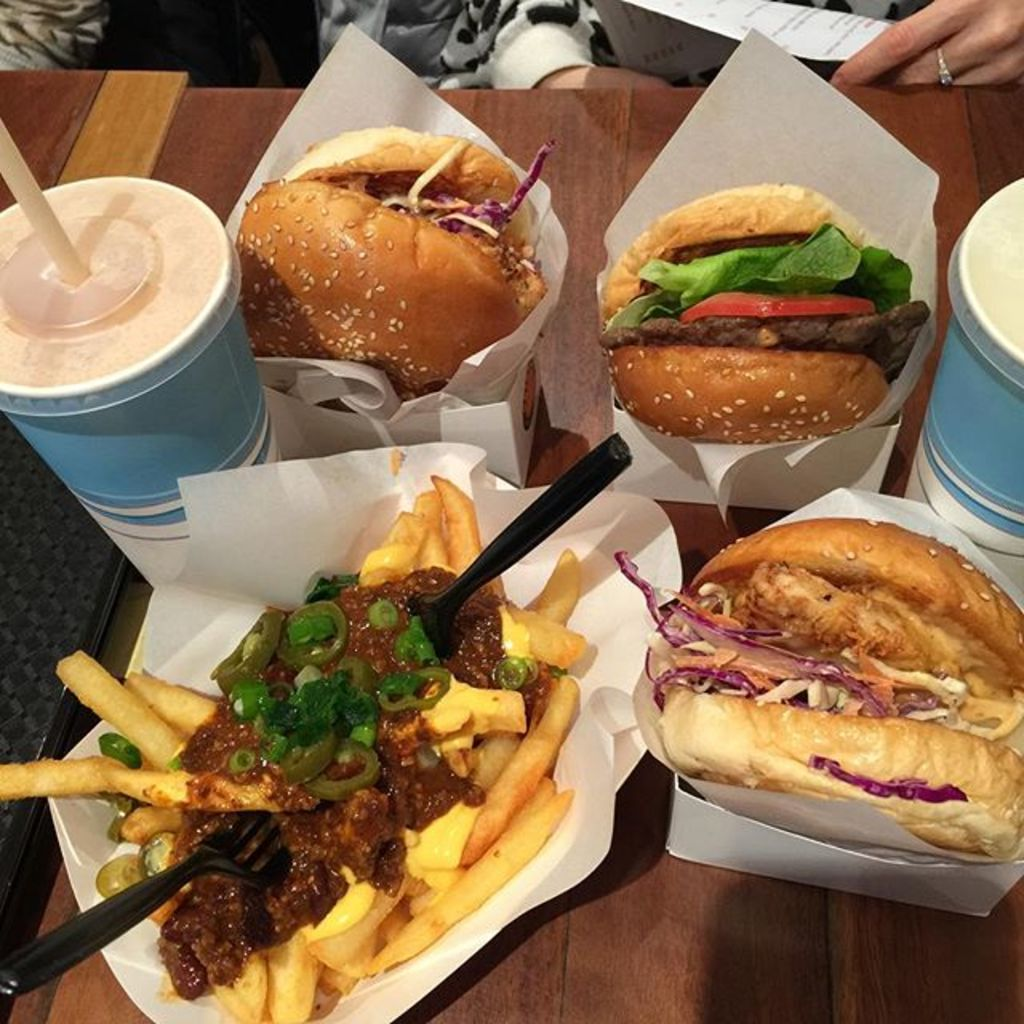French fries: (121, 467, 582, 1022), (65, 662, 224, 828)
